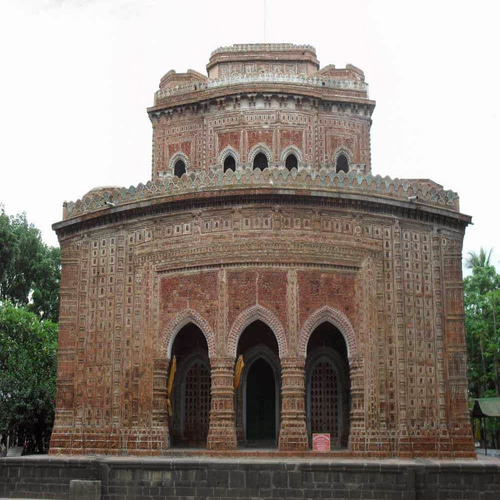Temple: (38, 42, 478, 458)
